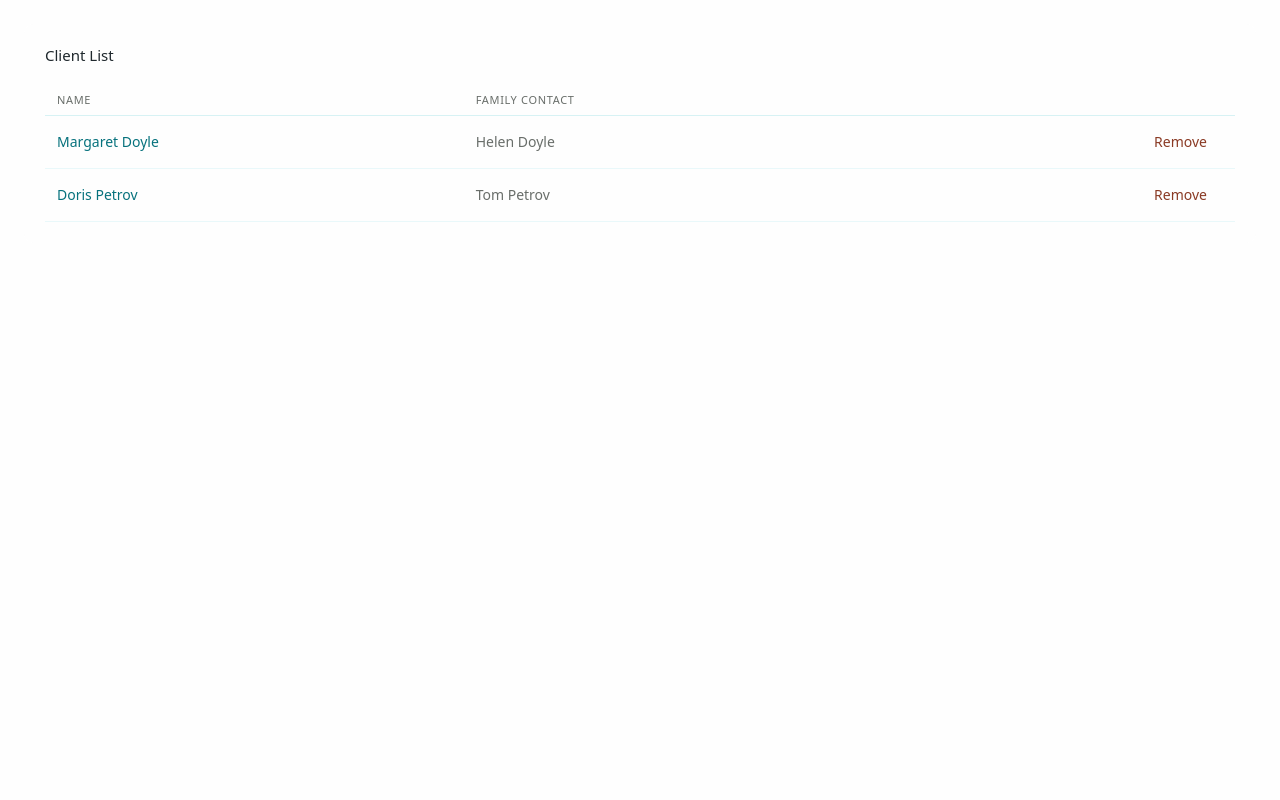
Admin Clients › [ADM-04][AC-01] shows client/contact pairs and asks before removing
Expected: the text "Helen Doyle" is shown, [476,132,555,152]
Expected: the text "Tom Petrov" is shown, [476,185,550,205]
Step 1. Click the button with aria-label "Remove Margaret Doyle" → (1181,142), box [1138,120,1223,164]
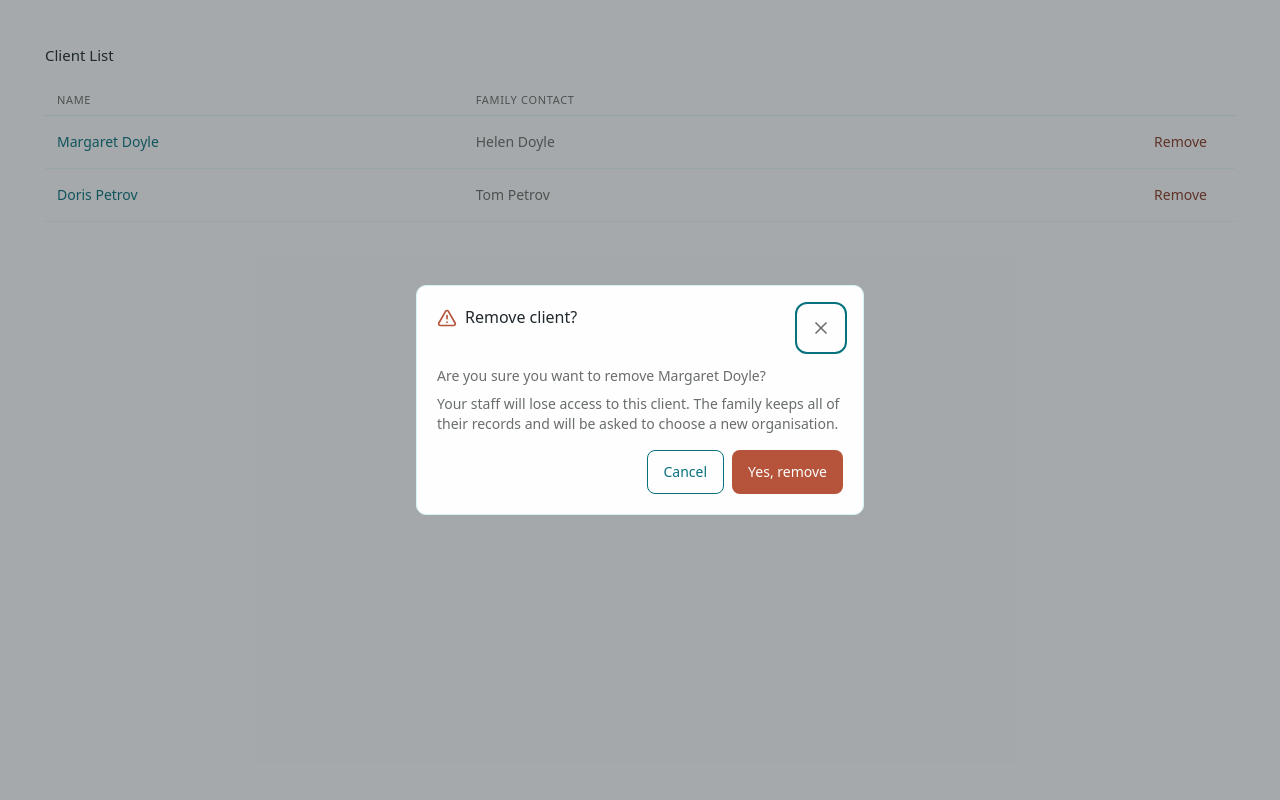
Expected: the row "Margaret Doyle Helen Doyle Remove" is shown, [45,116,1235,168]
Expected: the dialog "Remove client?" shows "Are you sure you want to remove Margaret Doyle?", [416,285,864,515]
